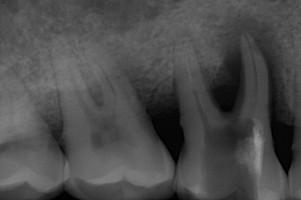Dental Caries: (203, 11, 296, 125)
